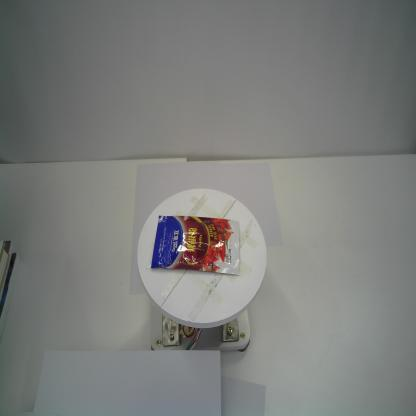Seasoner: (150, 212, 241, 278)
